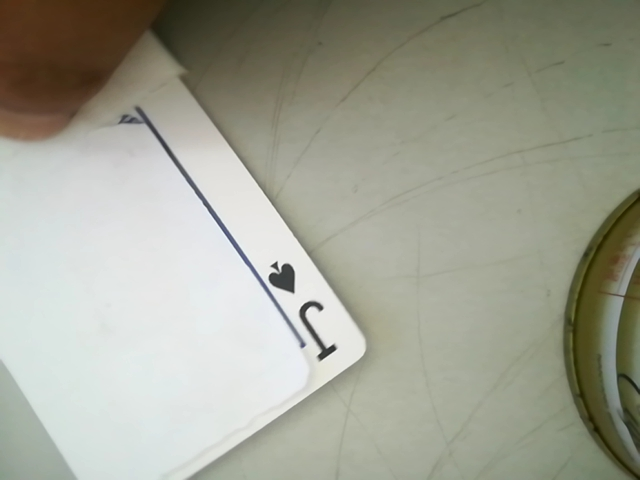ht j: (244, 246, 350, 368)
